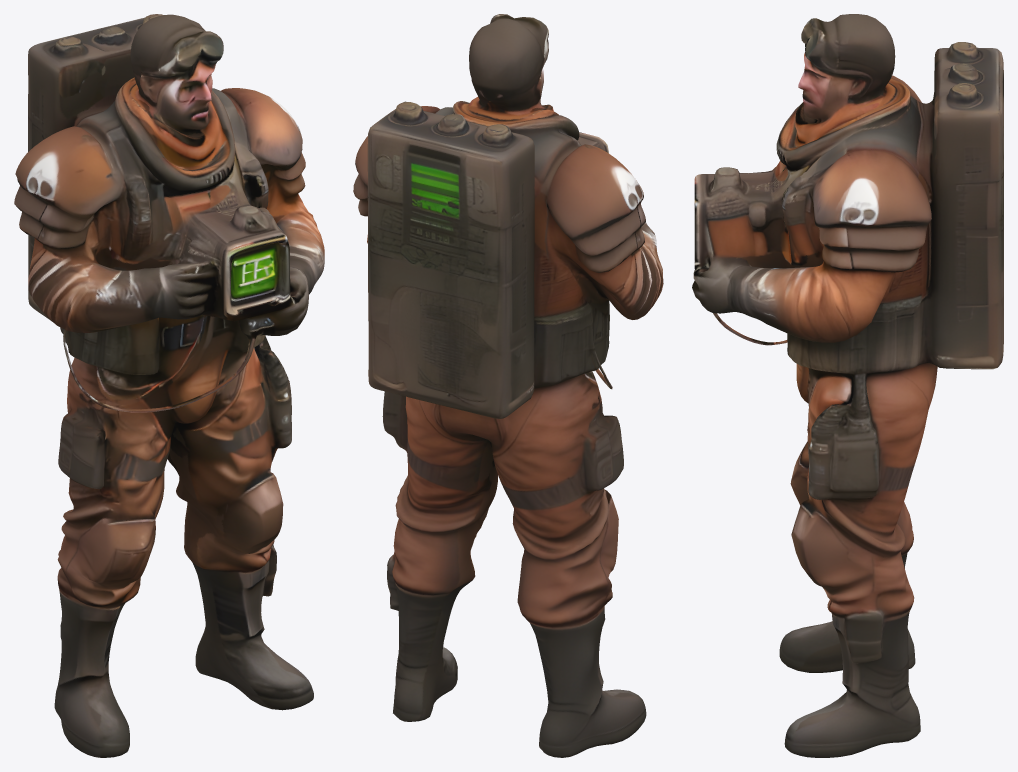
The model's file is character_researcher.glb.
The picture shows the model from 3 angles, left to right: view 1: azimuth 30°, elevation 25°; view 2: azimuth 150°, elevation 25°; view 3: azimuth 270°, elevation 25°; orthographic projection.
Parts seen in each view (by area): view 1: model; view 2: model; view 3: model.
Part boxes in pixels (x1,y1,x2,y2): model: [14, 14, 324, 757]; model: [353, 14, 663, 757]; model: [692, 14, 1003, 757].
Bounding box in the file's own units: 0.7842 × 1.9 × 0.7767.
Materials: 1 (1 with a texture image).
